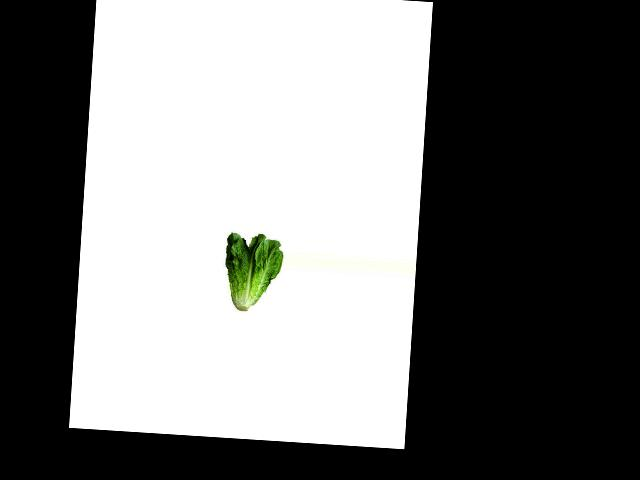lettuce: (220, 231, 283, 315)
